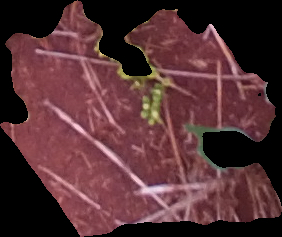soil: (3, 1, 279, 235)
